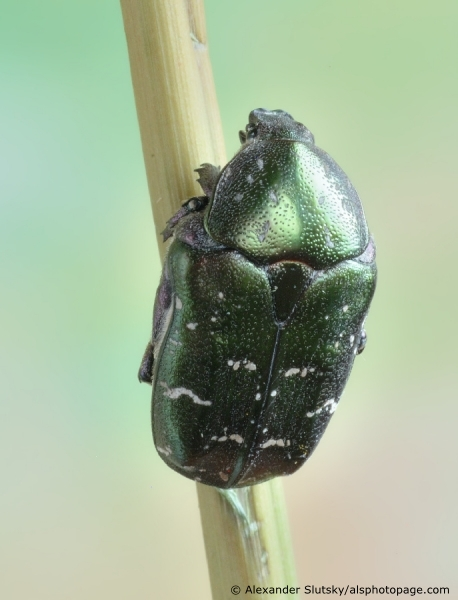Protaetia_metallica: (107, 95, 378, 497)
